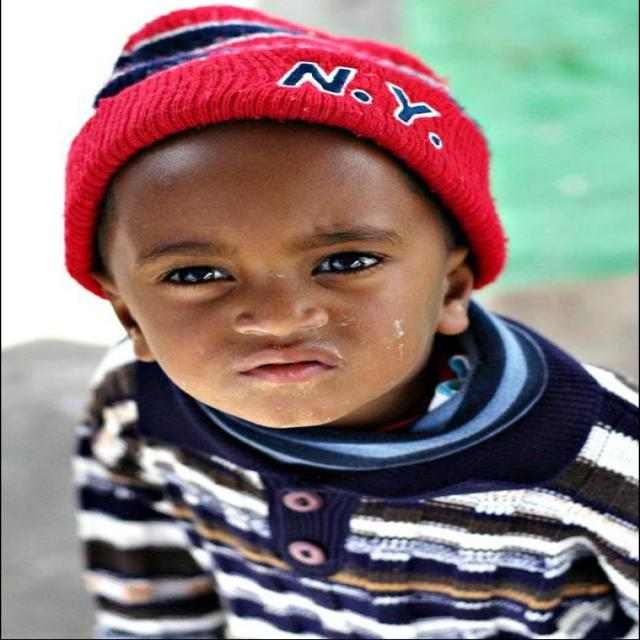no-glass: (155, 239, 404, 291)
